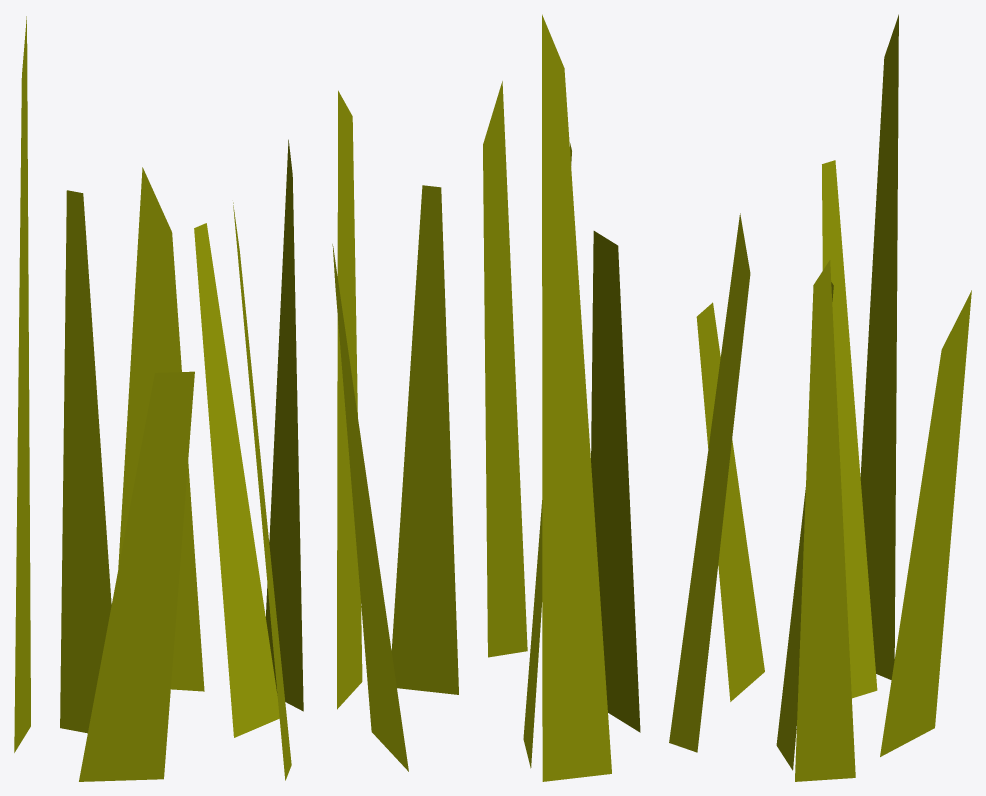
The model's file is Grass2Yellow.fbx.
3 renders of one model, left to right at view 1: azimuth 30°, elevation 25°; view 2: azimuth 150°, elevation 25°; view 3: azimuth 270°, elevation 25°, orthographic. The views are drawn at different scales.
Visible parts, largest first — view 1: Plane; view 2: Plane; view 3: Plane.
Part boxes in pixels (<box>): Plane: <box>14,16,303,781</box>; Plane: <box>332,14,640,781</box>; Plane: <box>669,14,971,781</box>.
Bounding box in the file's own units: 0.2177 × 0.5612 × 0.231.
